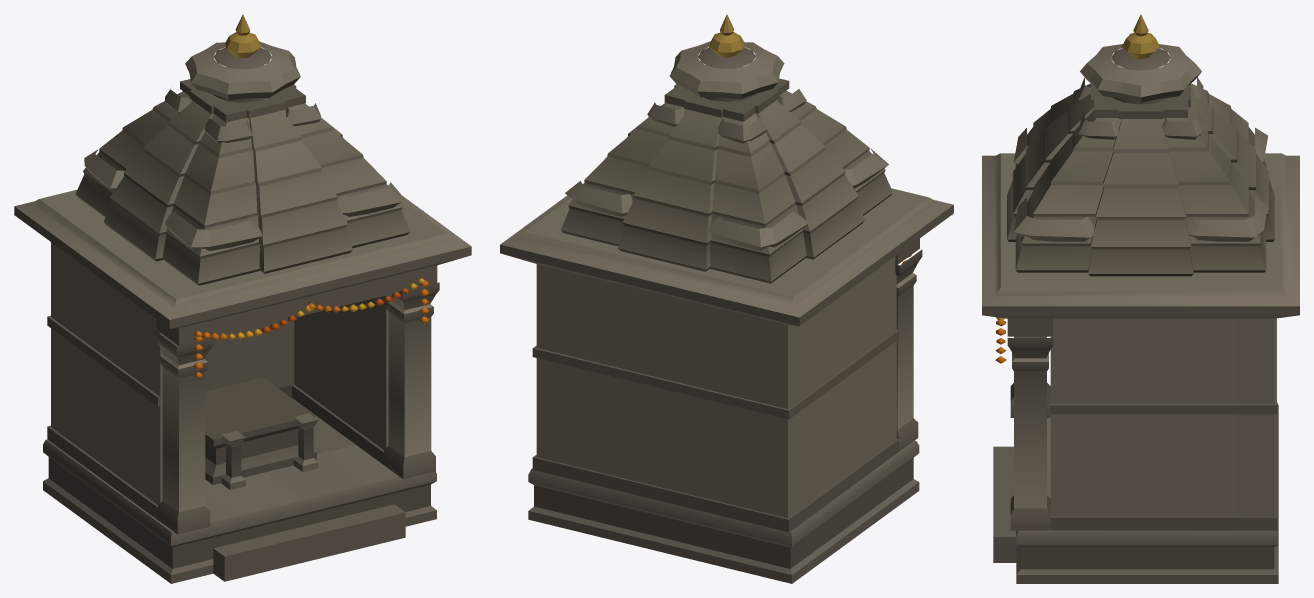
File: ganesha-shrine.glb
3 views of the same model, side by side, from view 1: azimuth 30°, elevation 25°; view 2: azimuth 150°, elevation 25°; view 3: azimuth 270°, elevation 25° (orthographic). The views are drawn at different scales.
Parts seen in each view (by area): view 1: ganesha-shrine; view 2: ganesha-shrine; view 3: ganesha-shrine.
Boxes of the visible parts, x1=… form: ganesha-shrine: x1=14, y1=14, x2=471, y2=583; ganesha-shrine: x1=500, y1=14, x2=953, y2=583; ganesha-shrine: x1=982, y1=14, x2=1299, y2=583.
Bounding box in the file's own units: 2.5 × 3.9 × 2.23.
